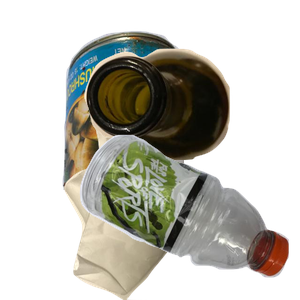glass: (82, 46, 300, 199)
metal: (60, 28, 300, 208)
plastic: (77, 132, 300, 300)
trash: (62, 120, 251, 300)
